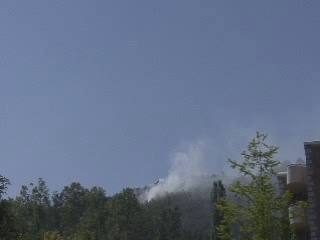smoke: (131, 140, 224, 205)
